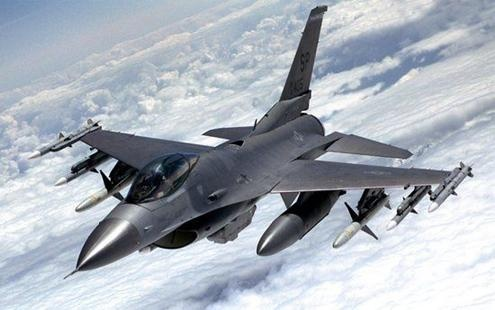airplane: (20, 3, 474, 287)
